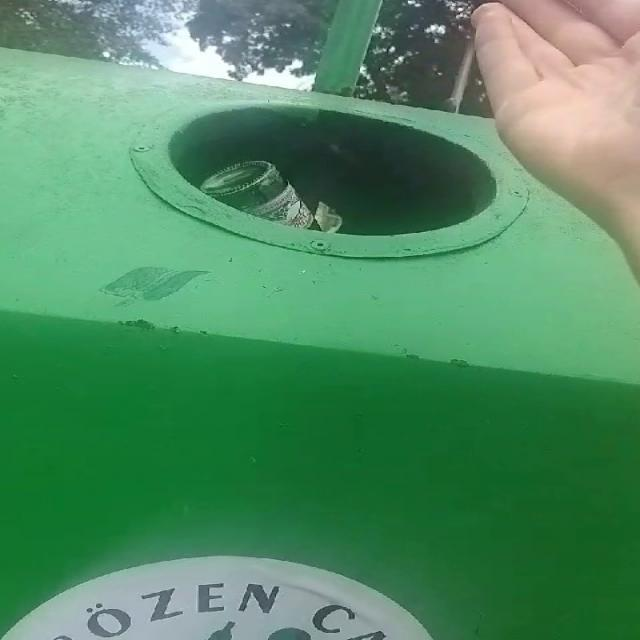Glass: (200, 163, 315, 228)
